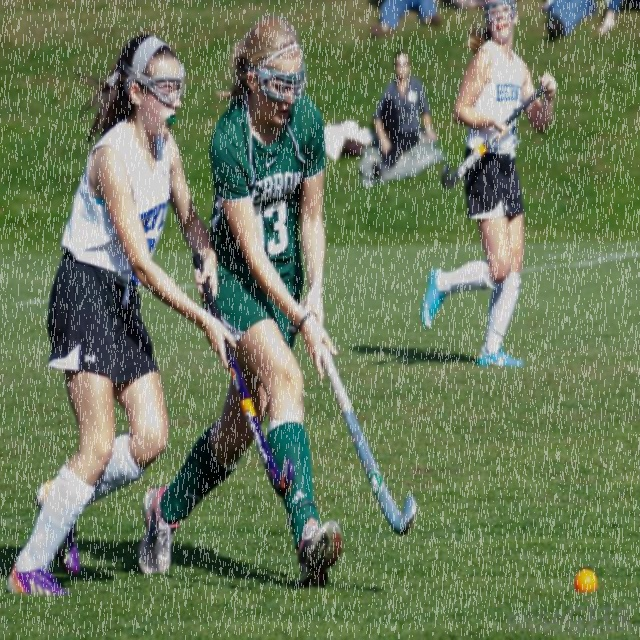pessoa: (7, 28, 240, 608), (135, 13, 344, 593), (416, 0, 562, 376), (0, 536, 309, 601), (354, 43, 440, 192), (342, 336, 480, 372), (368, 0, 472, 30), (540, 0, 626, 36)
